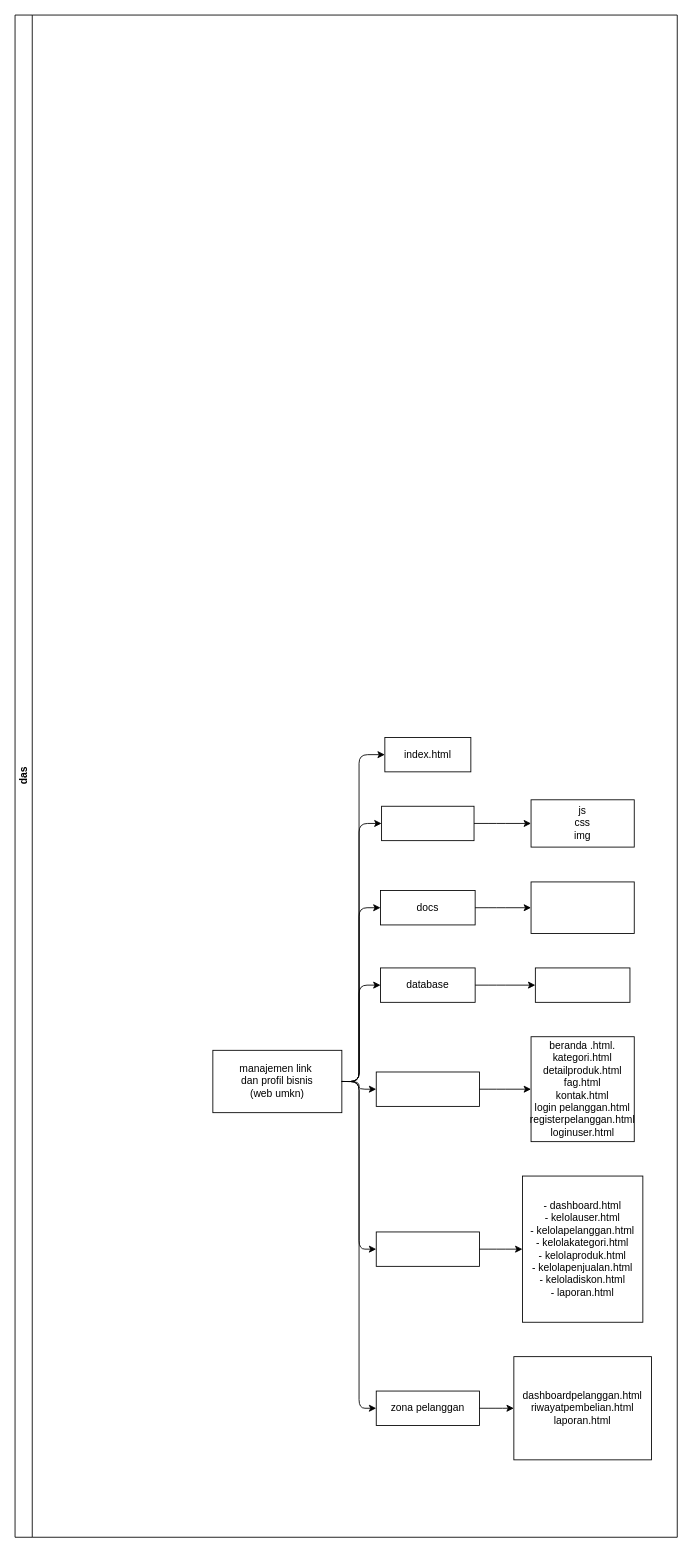
This 692x1552 diagram has some shape labels left out. Each missing label, with the box of its shape:
assets: (381, 805, 474, 841)
cafeteria zsaskia.sql: (534, 967, 630, 1002)
landing pages: (375, 1071, 479, 1106)
treedigram modul: (530, 881, 634, 934)
zona user: (375, 1231, 479, 1266)
